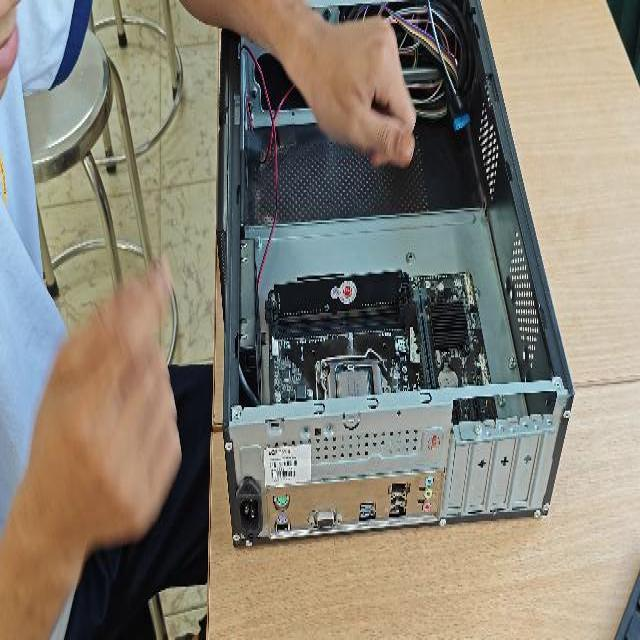CPU: (324, 358, 379, 406)
Mainboard: (258, 265, 501, 444)
RAM: (273, 263, 412, 322)
